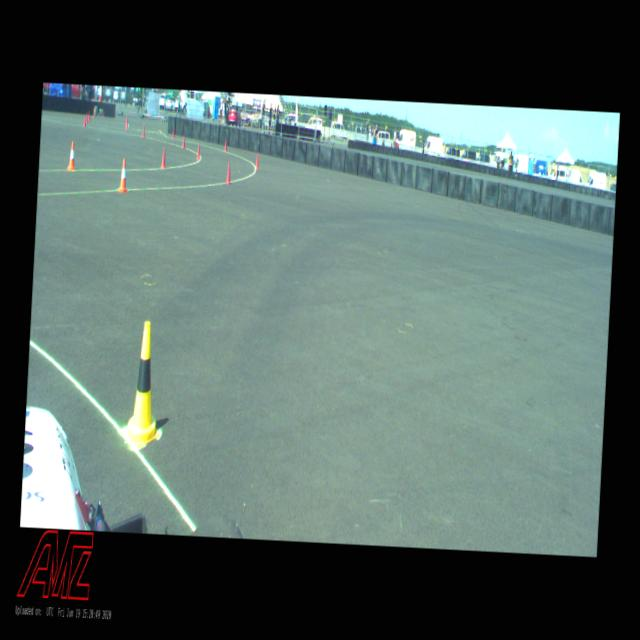orange_cone: (118, 159, 128, 191), (68, 142, 76, 170)
unknown_cone: (160, 148, 167, 168), (226, 161, 232, 184), (182, 134, 186, 148), (224, 139, 228, 152), (256, 153, 259, 170), (197, 144, 200, 160), (142, 126, 146, 138), (85, 112, 88, 124), (125, 118, 128, 130), (83, 115, 86, 126), (172, 128, 175, 138), (88, 110, 91, 120)
yellow_cone: (127, 322, 161, 441)
